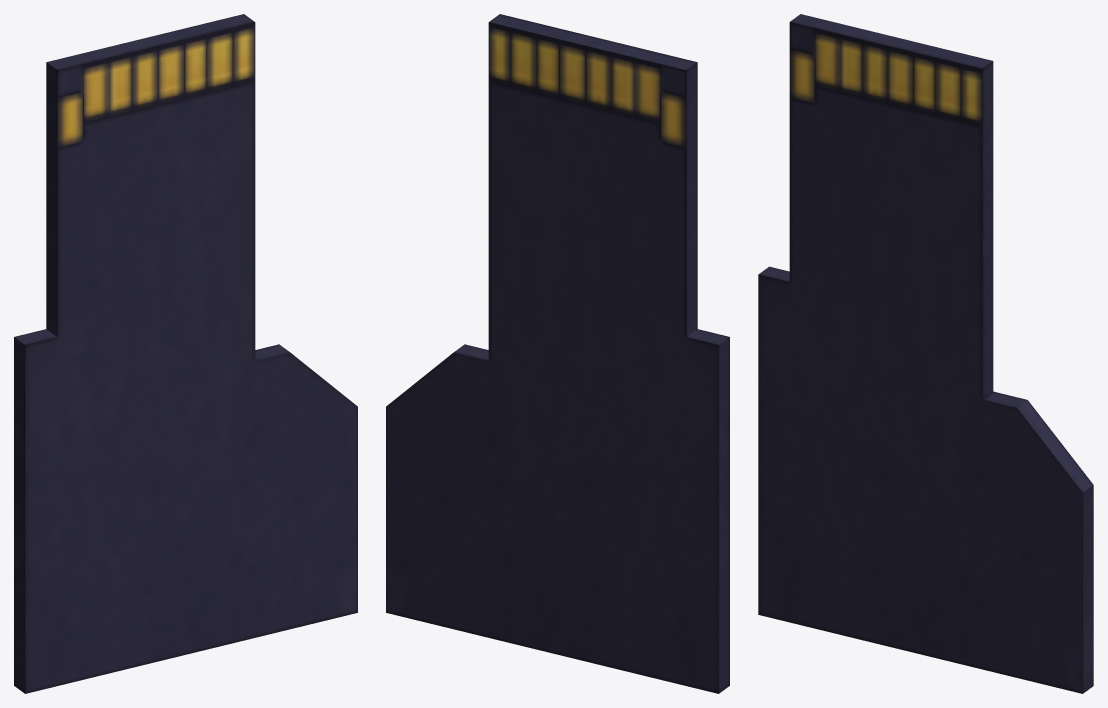
The model's file is PilotKey.fbx.
3 renders of one model, left to right at view 1: azimuth 30°, elevation 25°; view 2: azimuth 150°, elevation 25°; view 3: azimuth 330°, elevation 25°, orthographic. The views are drawn at different scales.
Visible parts, largest first — view 1: Keycard_Pilot; view 2: Keycard_Pilot; view 3: Keycard_Pilot.
Part boxes in pixels (x1=…): Keycard_Pilot: x1=14, y1=14, x2=357, y2=693; Keycard_Pilot: x1=386, y1=14, x2=729, y2=693; Keycard_Pilot: x1=758, y1=14, x2=1093, y2=693.
Bounding box in the file's own units: 5.16 × 9.13 × 0.3.
1 material, 1 textured.
